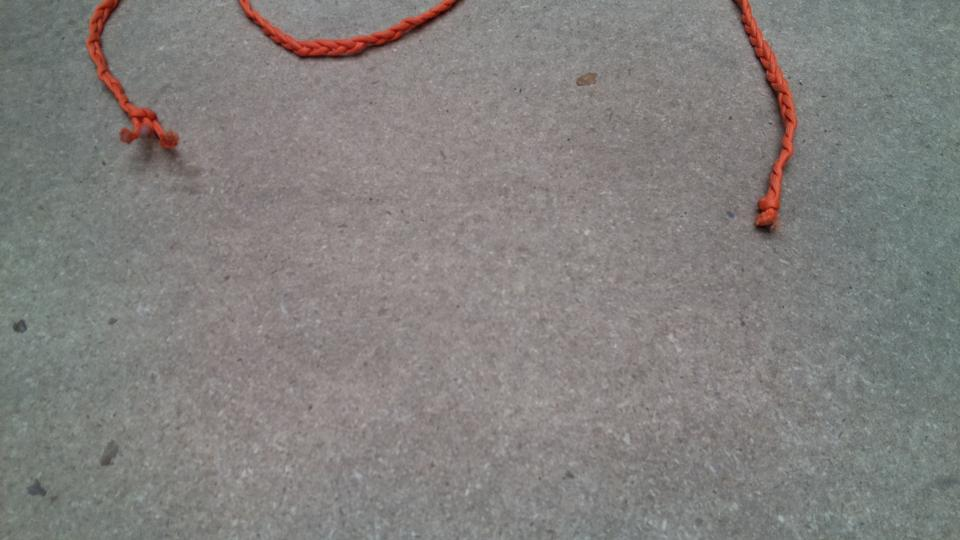rope: (81, 1, 803, 241)
